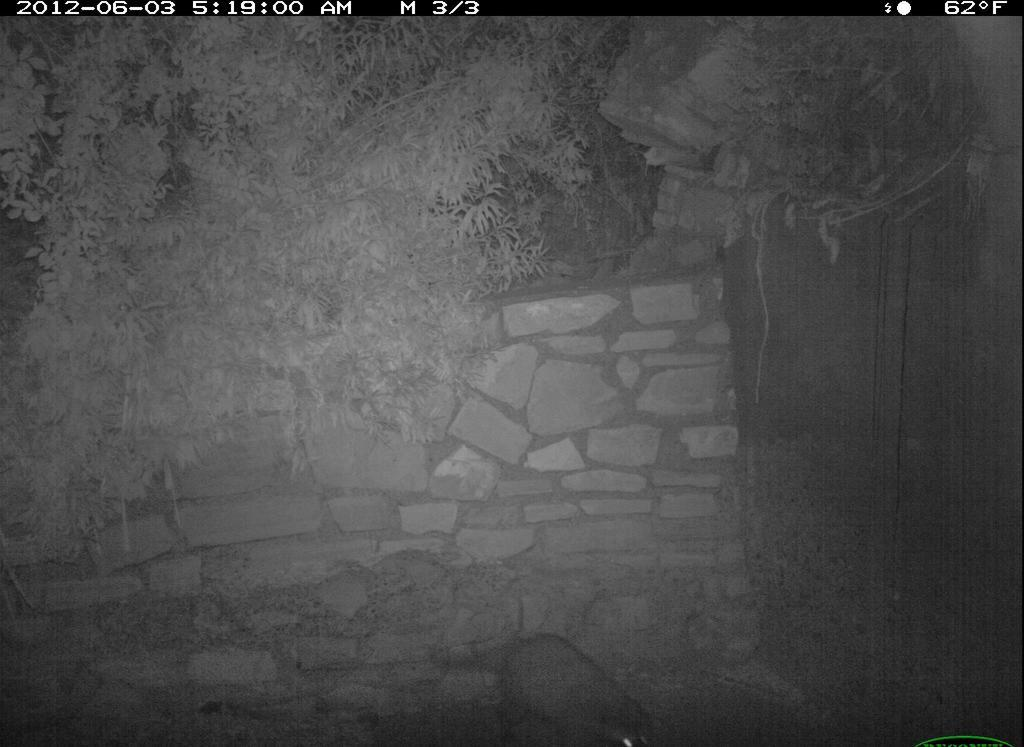raccoon: (473, 624, 670, 747)
